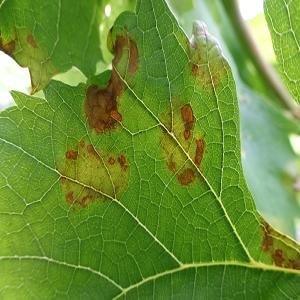Folha: (0, 0, 299, 299), (0, 0, 111, 94), (262, 0, 300, 108)
Fungo: (56, 138, 130, 212), (162, 84, 204, 186), (184, 12, 228, 92), (256, 214, 300, 272), (84, 81, 122, 133), (109, 35, 145, 74), (180, 102, 194, 140), (177, 167, 195, 187), (194, 138, 204, 166), (271, 248, 285, 267), (86, 143, 100, 159), (117, 155, 127, 171), (167, 154, 175, 172), (27, 34, 37, 48), (65, 149, 77, 160), (66, 190, 74, 203), (192, 62, 198, 76), (184, 128, 190, 139), (109, 156, 115, 165)
